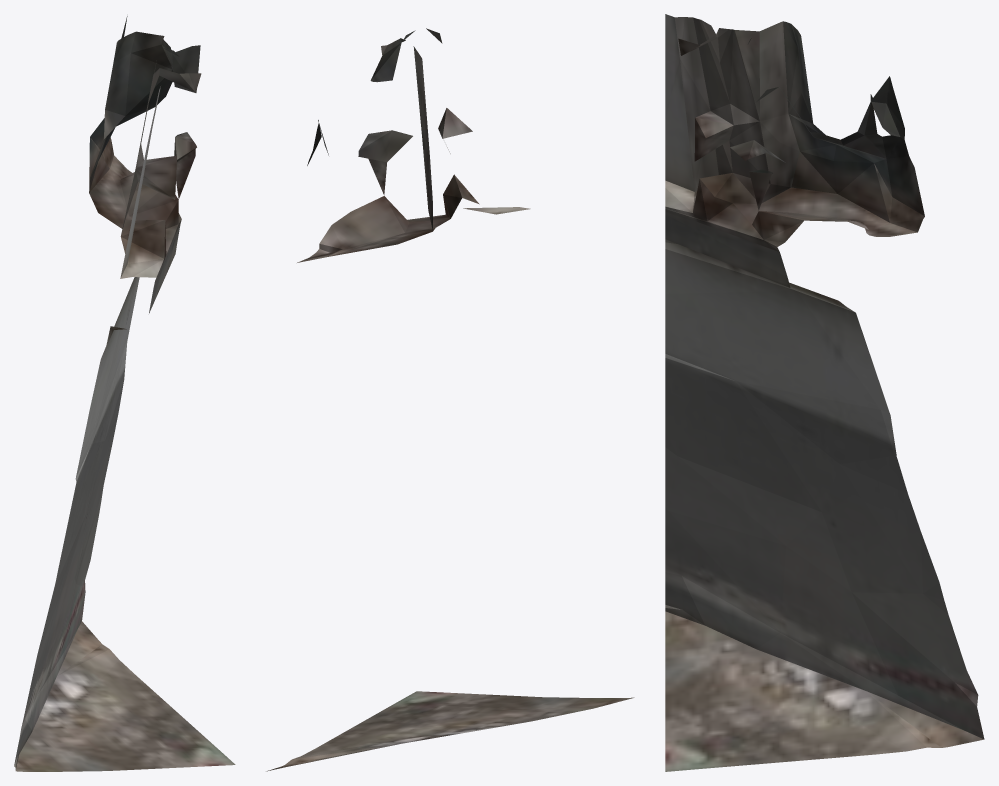
3 renders of one model, left to right at view 1: azimuth 30°, elevation 25°; view 2: azimuth 150°, elevation 25°; view 3: azimuth 270°, elevation 25°, orthographic. The views are drawn at different scales.
Size of the model in its own units: 0.6734 by 2.01 by 0.8091.
Materials: 1 (1 with a texture image).
